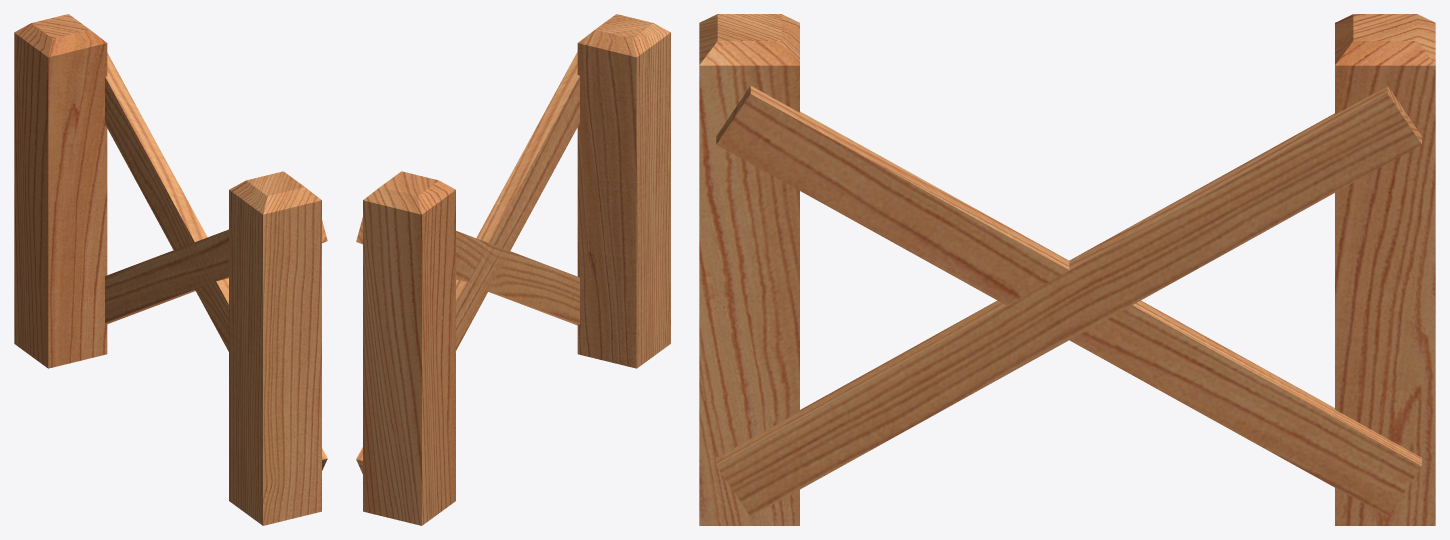
Rendered from fence2.fbx.
3 views of the same model, side by side, from view 1: azimuth 30°, elevation 25°; view 2: azimuth 150°, elevation 25°; view 3: azimuth 270°, elevation 25° (orthographic). The views are drawn at different scales.
Parts seen in each view (by area): view 1: W_rfel_4; view 2: W_rfel_4; view 3: W_rfel_4.
Boxes of the visible parts, box(x1,y1,x2,y2) form: W_rfel_4: box(14, 14, 327, 525); W_rfel_4: box(356, 14, 670, 525); W_rfel_4: box(699, 14, 1435, 525).
Bounding box in the file's own units: 59.74 × 261 × 365.
